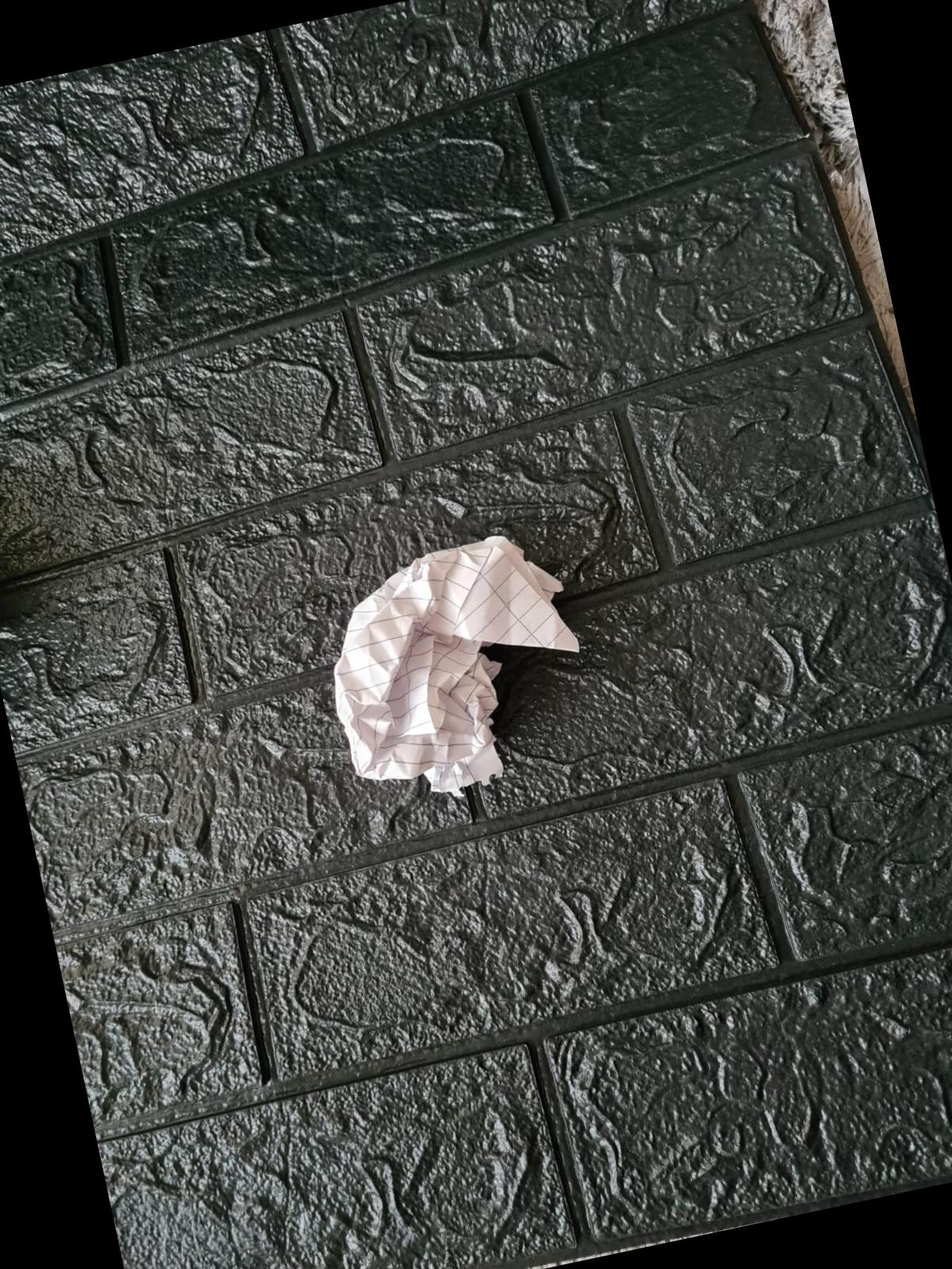Kertas: (335, 536, 578, 789)
